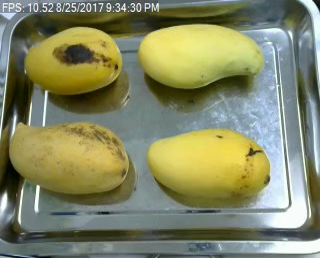Mango: (10, 121, 130, 193), (138, 23, 264, 90), (147, 129, 269, 198), (24, 26, 122, 94)
